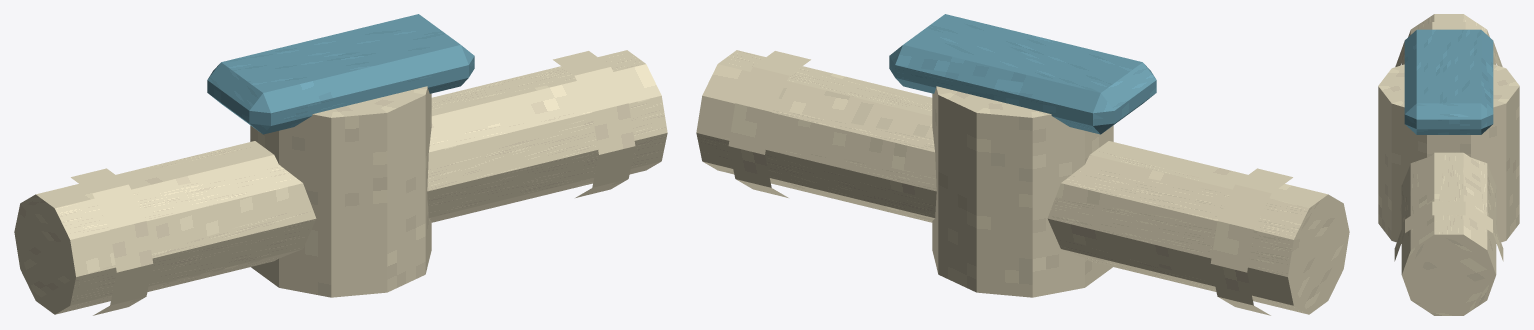
File: stopcock.glb
The picture shows the model from 3 angles, left to right: view 1: azimuth 30°, elevation 25°; view 2: azimuth 150°, elevation 25°; view 3: azimuth 270°, elevation 25°; orthographic projection. The views are drawn at different scales.
Parts seen in each view (by area): view 1: block_molded plastic valve body, block_plastic valve stem, block_blue turning lever, block_plastic hose lip (×2); view 2: block_molded plastic valve body, block_plastic valve stem, block_blue turning lever, block_plastic hose lip (×2); view 3: block_molded plastic valve body, block_plastic valve stem, block_blue turning lever, block_plastic hose lip (×2).
Part boxes in pixels (<box>): block_molded plastic valve body: <box>14,50,667,314</box>; block_plastic valve stem: <box>250,86,431,297</box>; block_blue turning lever: <box>207,14,474,134</box>; block_plastic hose lip (×2): <box>71,51,635,315</box>; block_molded plastic valve body: <box>696,50,1349,314</box>; block_plastic valve stem: <box>932,86,1113,297</box>; block_blue turning lever: <box>889,14,1156,134</box>; block_plastic hose lip (×2): <box>728,51,1292,315</box>; block_molded plastic valve body: <box>1401,14,1496,315</box>; block_plastic valve stem: <box>1378,64,1519,243</box>; block_blue turning lever: <box>1404,29,1493,134</box>; block_plastic hose lip (×2): <box>1394,22,1503,261</box>.
Bounding box in the file's own units: 0.019 × 0.0063 × 0.00515.
1 material, 1 textured.
